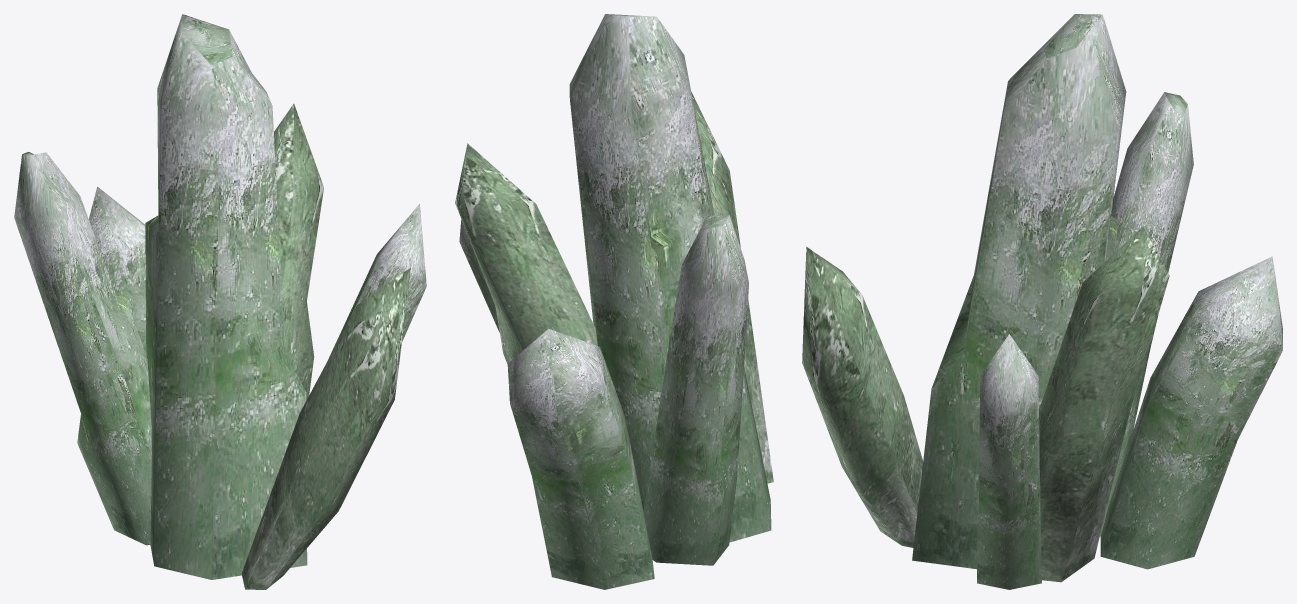
Rendered from ADDON_STONES_CRYSTAL_01_228P.glb.
3 views of the same model, side by side, from view 1: azimuth 30°, elevation 25°; view 2: azimuth 150°, elevation 25°; view 3: azimuth 270°, elevation 25° (orthographic). The views are drawn at different scales.
Visible parts, largest first — view 1: Mesh; view 2: Mesh; view 3: Mesh.
Boxes of the visible parts, left/top/right/bottom form: Mesh: left=14, top=14, right=426, bottom=589; Mesh: left=455, top=14, right=773, bottom=589; Mesh: left=802, top=14, right=1282, bottom=589.
Size of the model in its own units: 0.8864 by 1.26 by 1.04.
2 materials, 2 textured.
